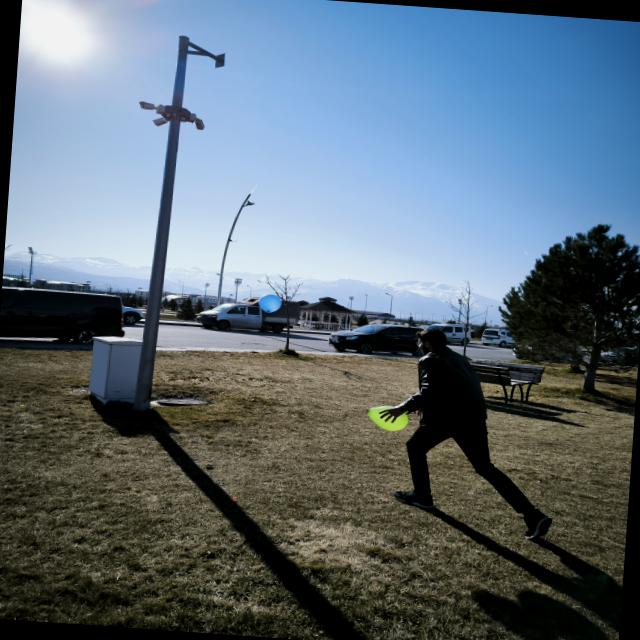balloon: (367, 406, 408, 430), (259, 294, 282, 312)
